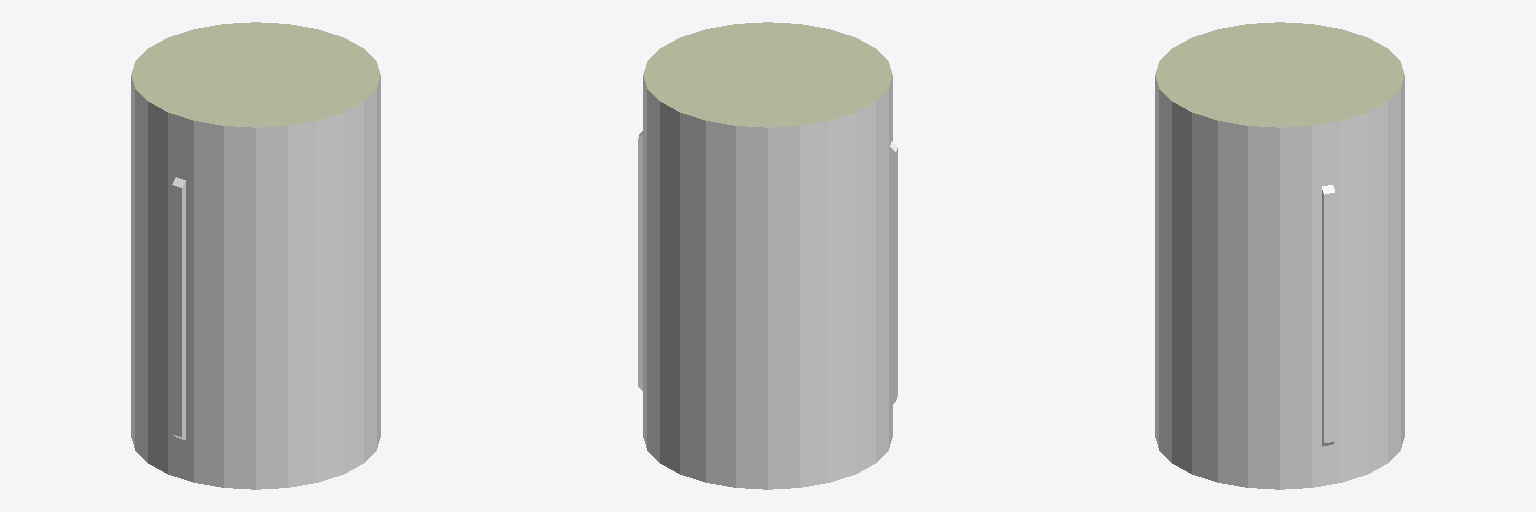
Rendered from HLV_2_LFO_1.obj.
3 renders of one model, left to right at view 1: azimuth 30°, elevation 25°; view 2: azimuth 150°, elevation 25°; view 3: azimuth 270°, elevation 25°, orthographic.
Visible parts, largest first — view 1: HLV_2_LFO_1; view 2: HLV_2_LFO_1; view 3: HLV_2_LFO_1.
Part boxes in pixels (x1,y1,x2,y2): HLV_2_LFO_1: (131, 22, 380, 489); HLV_2_LFO_1: (638, 22, 897, 489); HLV_2_LFO_1: (1155, 22, 1404, 489).
Bounding box in the file's own units: 2.5 × 4 × 2.5.